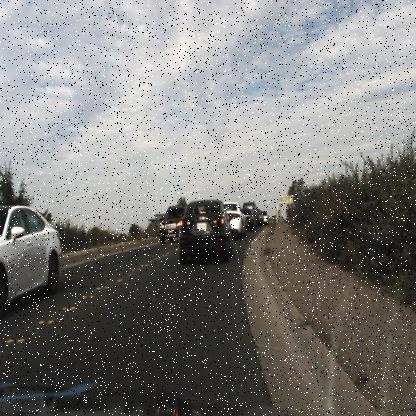car: (0, 203, 63, 317), (175, 193, 229, 268), (154, 199, 185, 248), (223, 200, 246, 238), (223, 198, 246, 236), (238, 203, 254, 231)
